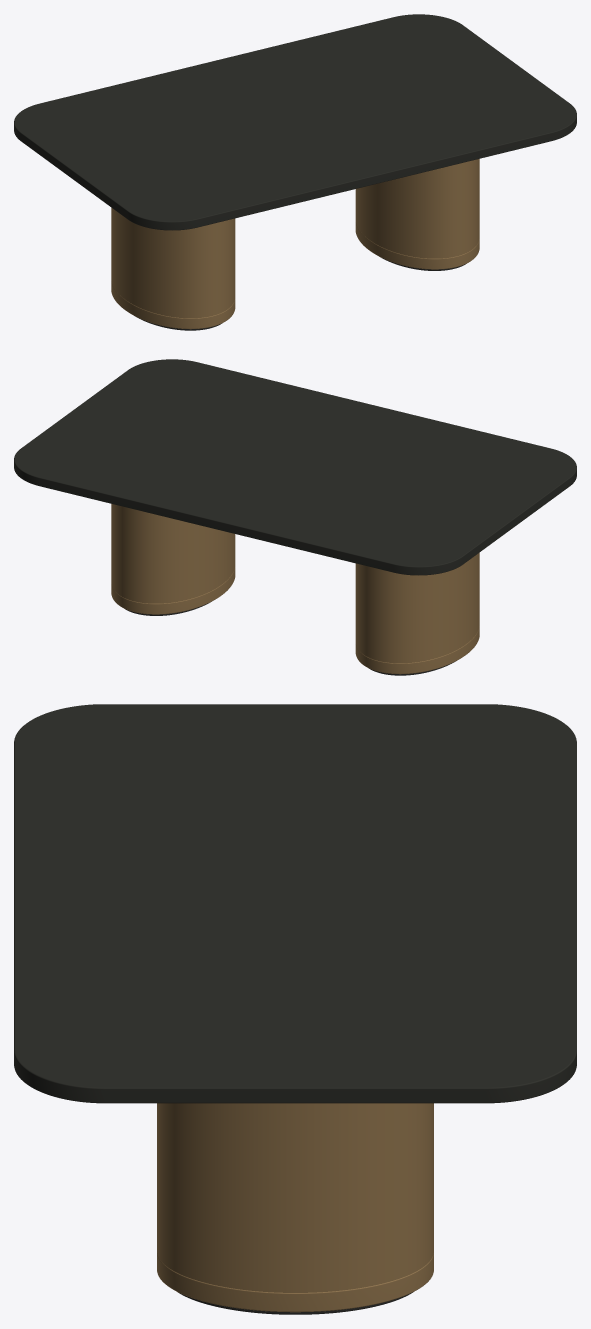
The model's file is coffee.glb.
3 renders of one model, top to bottom at view 1: azimuth 30°, elevation 25°; view 2: azimuth 150°, elevation 25°; view 3: azimuth 270°, elevation 25°, orthographic. The views are drawn at different scales.
Visible parts, largest first — view 1: Stone top | 20 mm PROVISIONAL | 02_Coffee_Table, Base | oval shell PVD stainless, Base | oval shell PVD stainless.001, Base | bronze toe detail.001, Base | bronze toe detail; view 2: Stone top | 20 mm PROVISIONAL | 02_Coffee_Table, Base | oval shell PVD stainless, Base | oval shell PVD stainless.001, Base | bronze toe detail.001, Base | bronze toe detail; view 3: Stone top | 20 mm PROVISIONAL | 02_Coffee_Table, Base | oval shell PVD stainless.001, Base | bronze toe detail.001.
Part boxes in pixels (<box>): Stone top | 20 mm PROVISIONAL | 02_Coffee_Table: <box>14,14,576,230</box>; Base | oval shell PVD stainless: <box>111,207,235,318</box>; Base | oval shell PVD stainless.001: <box>355,159,479,258</box>; Base | bronze toe detail.001: <box>355,222,479,269</box>; Base | bronze toe detail: <box>111,282,235,329</box>; Stone top | 20 mm PROVISIONAL | 02_Coffee_Table: <box>14,359,576,575</box>; Base | oval shell PVD stainless: <box>355,552,479,663</box>; Base | oval shell PVD stainless.001: <box>111,504,235,603</box>; Base | bronze toe detail.001: <box>111,567,235,614</box>; Base | bronze toe detail: <box>355,627,479,674</box>; Stone top | 20 mm PROVISIONAL | 02_Coffee_Table: <box>14,704,576,1103</box>; Base | oval shell PVD stainless.001: <box>157,1103,433,1292</box>; Base | bronze toe detail.001: <box>157,1253,433,1312</box>.
Size of the model in its own units: 1.05 by 0.35 by 0.65.
